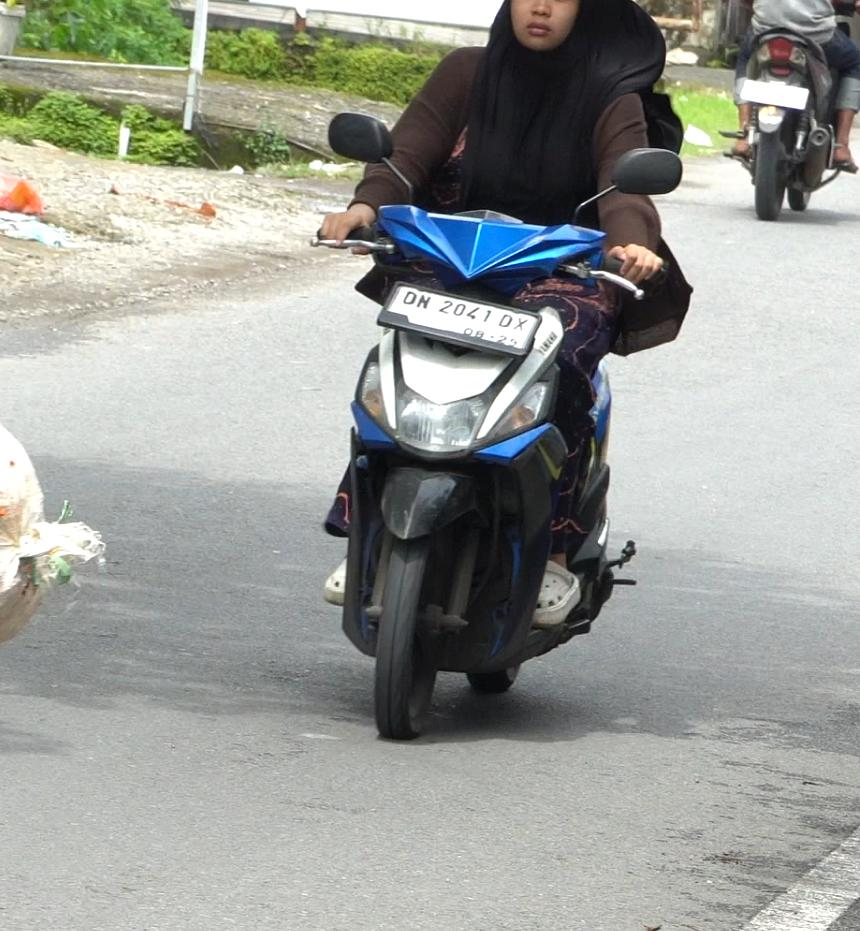number-plate: (388, 283, 535, 360)
